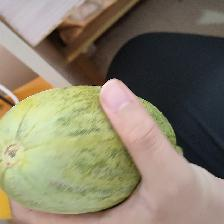gua: (12, 88, 130, 199)
